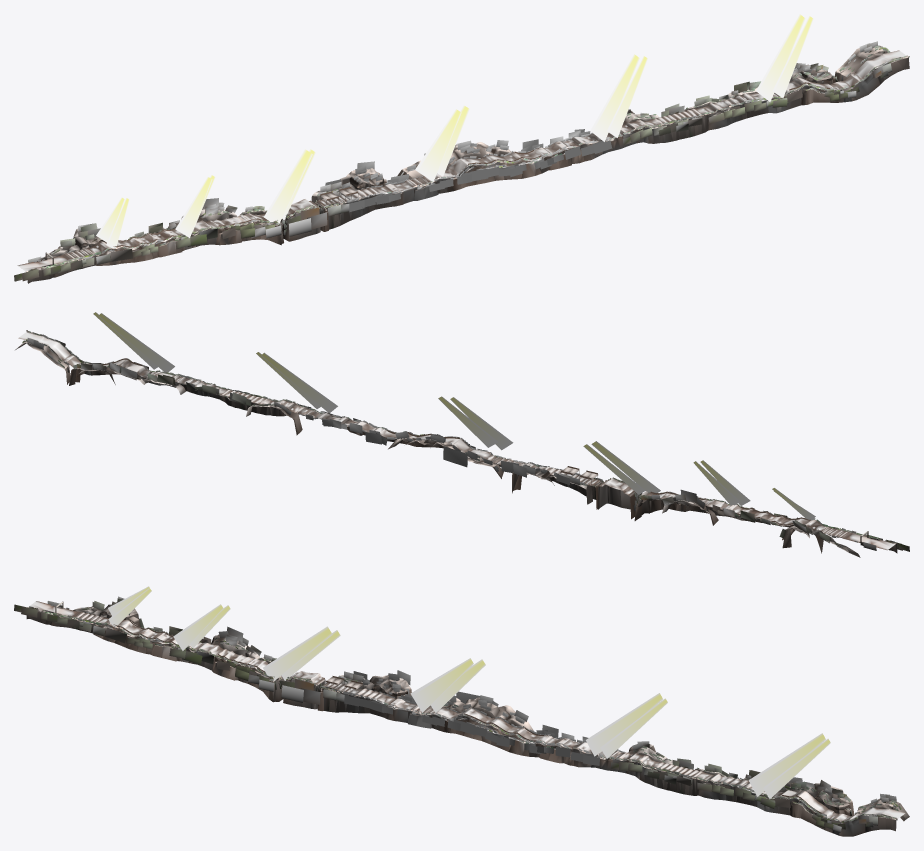
The model's file is Forest_11.fbx.
3 renders of one model, top to bottom at view 1: azimuth 30°, elevation 25°; view 2: azimuth 150°, elevation 25°; view 3: azimuth 330°, elevation 25°, orthographic.
Visible parts, largest first — view 1: Tree_01_A, Mountain_05, Light_01, Ground_02, Leak_A1; view 2: Tree_01_A, Mountain_05, Light_01, Ground_02, Leak_A1; view 3: Tree_01_A, Mountain_05, Light_01, Ground_02, Leak_A1.
Part boxes in pixels (x1,y1,x2,y2): Tree_01_A: (14, 41, 909, 281); Mountain_05: (26, 46, 909, 283); Light_01: (96, 14, 813, 248); Ground_02: (17, 50, 905, 272); Leak_A1: (113, 82, 831, 247); Tree_01_A: (22, 330, 909, 551); Mountain_05: (15, 332, 897, 557); Light_01: (93, 312, 815, 520); Ground_02: (18, 332, 895, 550); Leak_A1: (103, 358, 810, 525); Tree_01_A: (14, 596, 901, 832); Mountain_05: (26, 602, 909, 836); Light_01: (108, 586, 830, 798); Ground_02: (30, 601, 905, 821); Leak_A1: (113, 620, 823, 813).
Bounding box in the file's own units: 92413 × 8525 × 4712.
